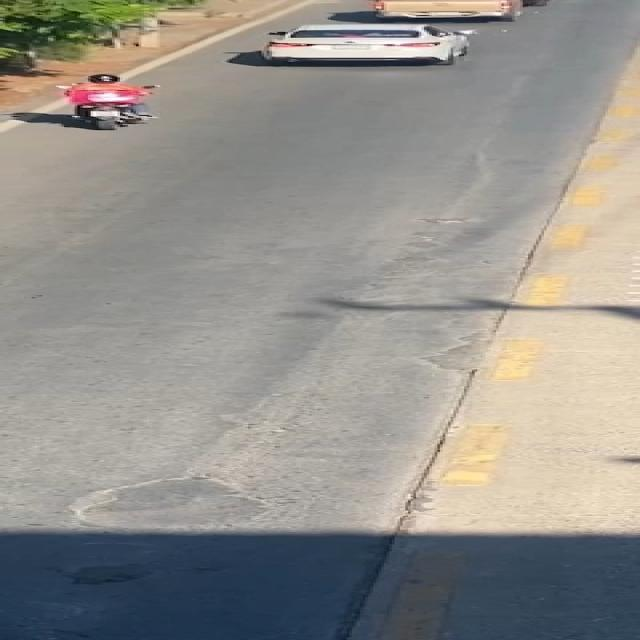car: (240, 19, 518, 73), (350, 0, 558, 23)
